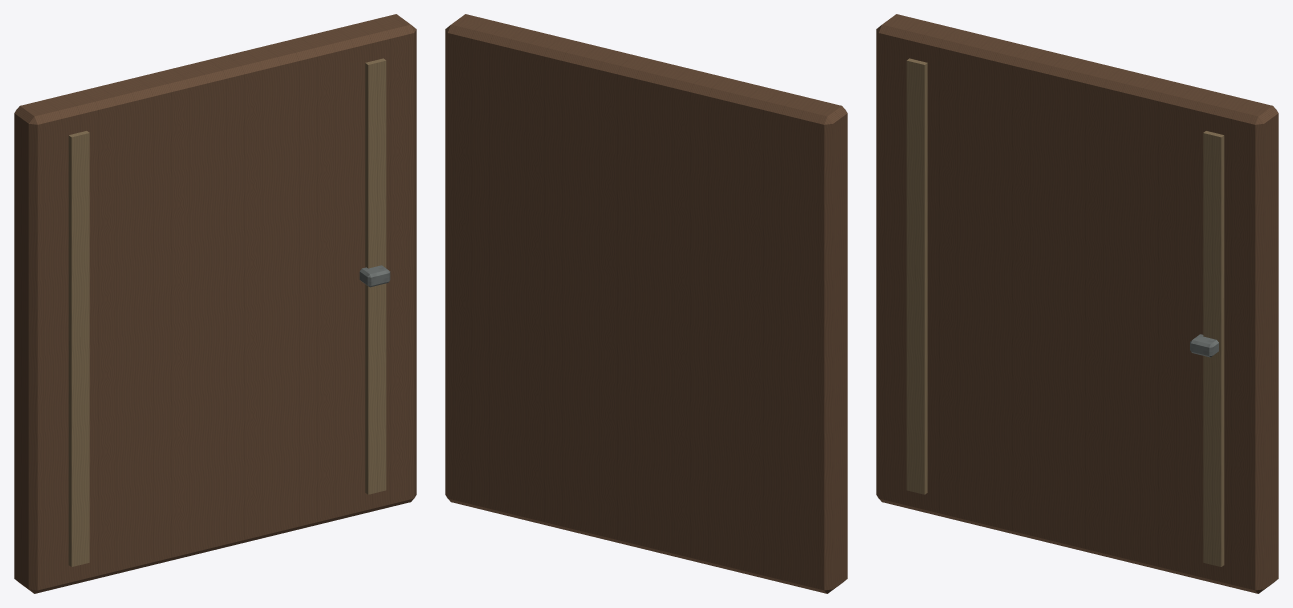
Rendered from door.glb.
3 views of the same model, side by side, from view 1: azimuth 30°, elevation 25°; view 2: azimuth 150°, elevation 25°; view 3: azimuth 330°, elevation 25° (orthographic).
Visible parts, largest first — view 1: DD_Door_Leaf, DD_Door_Rail, DD_Door_Rail.001, DD_Door_Handle; view 2: DD_Door_Leaf; view 3: DD_Door_Leaf, DD_Door_Rail, DD_Door_Rail.001.
Boxes of the visible parts, <box> form: DD_Door_Leaf: <box>14,14,416,593</box>; DD_Door_Rail: <box>68,131,89,566</box>; DD_Door_Rail.001: <box>365,58,386,494</box>; DD_Door_Handle: <box>359,265,390,287</box>; DD_Door_Leaf: <box>445,14,847,593</box>; DD_Door_Leaf: <box>876,14,1278,593</box>; DD_Door_Rail: <box>906,58,927,494</box>; DD_Door_Rail.001: <box>1203,131,1224,566</box>.
Size of the model in its own units: 1.7 by 2 by 0.24.
3 materials, 3 textured.
